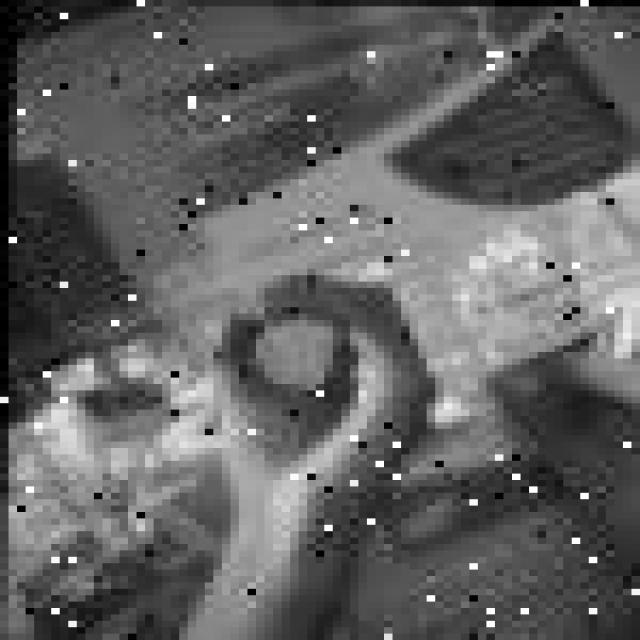O: (188, 272, 418, 496)
